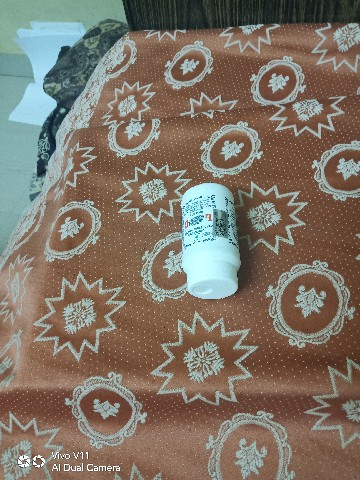lgasafoetidapowder large: (170, 177, 253, 313)
